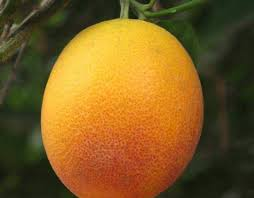orange: (36, 18, 204, 195)
